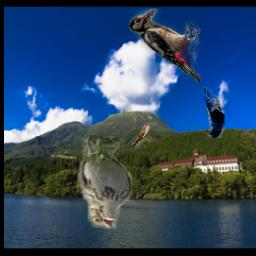Crow: (203, 87, 225, 138)
Cuckoo: (129, 124, 151, 149)
Sparrow: (77, 136, 132, 229)
Woodpecker: (130, 9, 202, 84)
